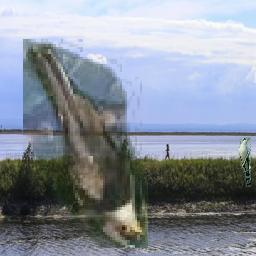Cuckoo: (24, 40, 149, 249), (239, 137, 251, 187)
